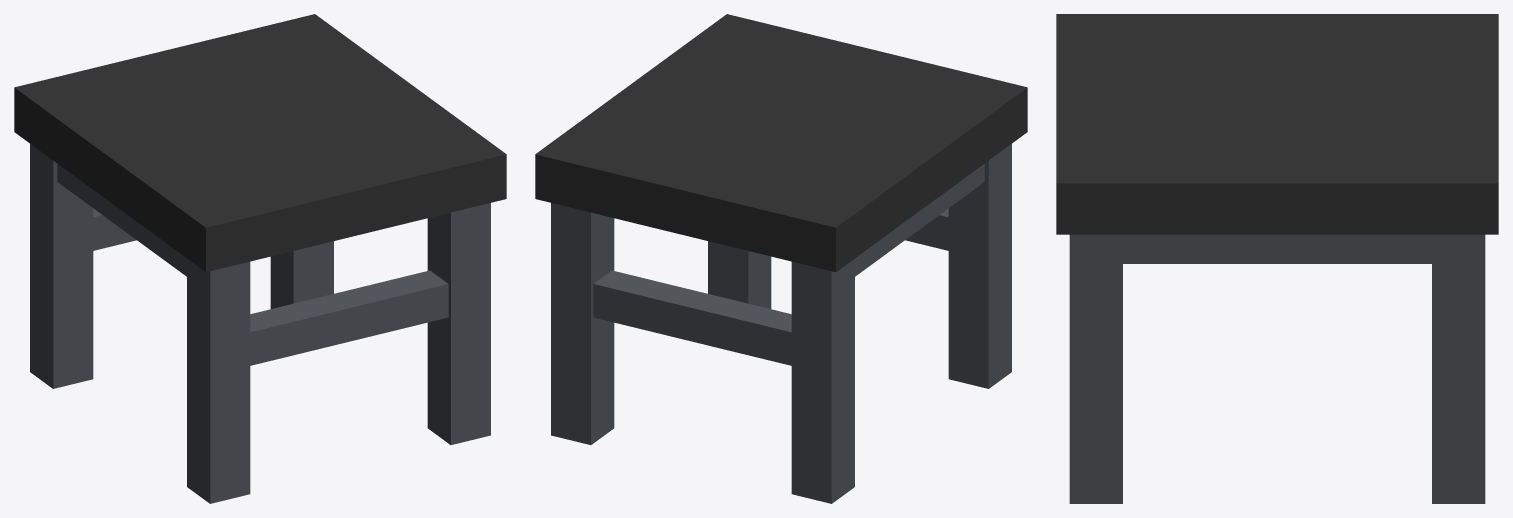
The model's file is Stool_3C.fbx.
The picture shows the model from 3 angles, left to right: view 1: azimuth 30°, elevation 25°; view 2: azimuth 150°, elevation 25°; view 3: azimuth 270°, elevation 25°; orthographic projection. The views are drawn at different scales.
Parts seen in each view (by area): view 1: polySurface1725; view 2: polySurface1725; view 3: polySurface1725.
Boxes of the visible parts, bbox=[...] form: polySurface1725: bbox=[14, 14, 506, 503]; polySurface1725: bbox=[535, 14, 1027, 503]; polySurface1725: bbox=[1056, 14, 1498, 503].
Bounding box in the file's own units: 0.6 × 0.5392 × 0.6625.
Materials: 1 (1 with a texture image).
